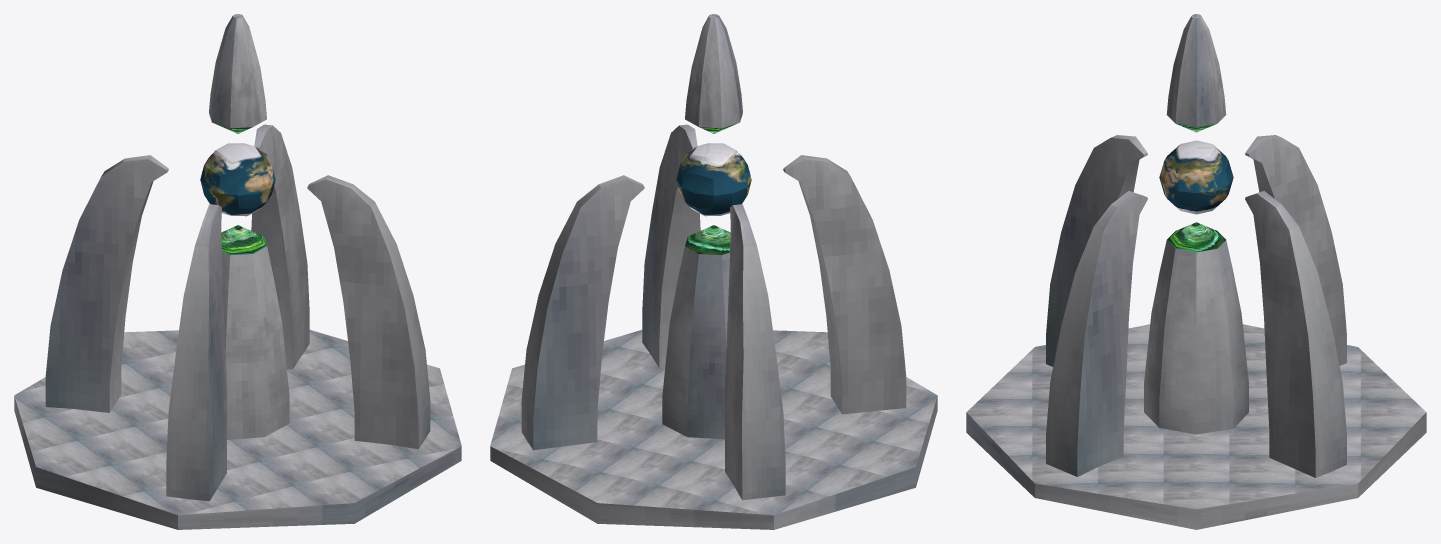
File: MachineClean.fbx
3 renders of one model, left to right at view 1: azimuth 30°, elevation 25°; view 2: azimuth 150°, elevation 25°; view 3: azimuth 270°, elevation 25°, orthographic.
Visible parts, largest first — view 1: Base, ArmFrontRight, ArmBackLeft, ArmFrontLeft, BodyLower, ArmBackRight, BodyUpper, Globe; view 2: Base, ArmBackRight, ArmFrontLeft, ArmBackLeft, BodyLower, ArmFrontRight, BodyUpper, Globe; view 3: Base, BodyLower, ArmBackRight, ArmFrontRight, ArmFrontLeft, ArmBackLeft, BodyUpper, Globe.
Part boxes in pixels (box(x1,y1,x2,y2)): Base: box(14, 330, 461, 529); ArmFrontRight: box(307, 175, 430, 449); ArmBackLeft: box(45, 155, 168, 412); ArmFrontLeft: box(166, 204, 226, 501); BodyLower: box(221, 225, 289, 439); ArmBackRight: box(251, 124, 309, 369); BodyUpper: box(209, 14, 266, 133); Globe: box(200, 143, 275, 216); Base: box(490, 330, 937, 529); ArmBackRight: box(521, 175, 644, 450); ArmFrontLeft: box(783, 155, 906, 414); ArmBackLeft: box(725, 204, 785, 500); BodyLower: box(662, 225, 730, 439); ArmFrontRight: box(642, 124, 700, 368); BodyUpper: box(685, 14, 742, 133); Globe: box(676, 143, 751, 216); Base: box(966, 324, 1426, 529); BodyLower: box(1144, 222, 1248, 434); ArmBackRight: box(1245, 191, 1346, 477); ArmFrontRight: box(1046, 191, 1147, 476); ArmFrontLeft: box(1046, 135, 1147, 366); ArmBackLeft: box(1245, 135, 1346, 365); BodyUpper: box(1166, 14, 1226, 132); Globe: box(1159, 140, 1233, 214).
Bounding box in the file's own units: 6.18 × 6.18 × 6.18.
Materials: 3 (3 with a texture image).
